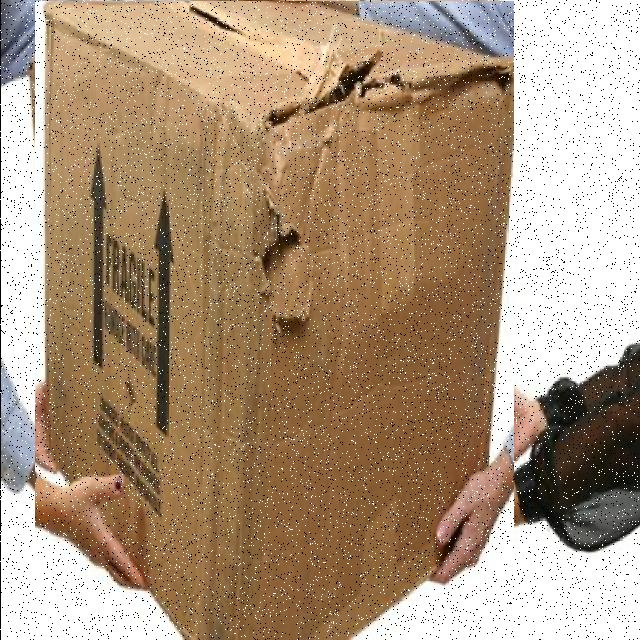defect: (34, 1, 513, 640)
